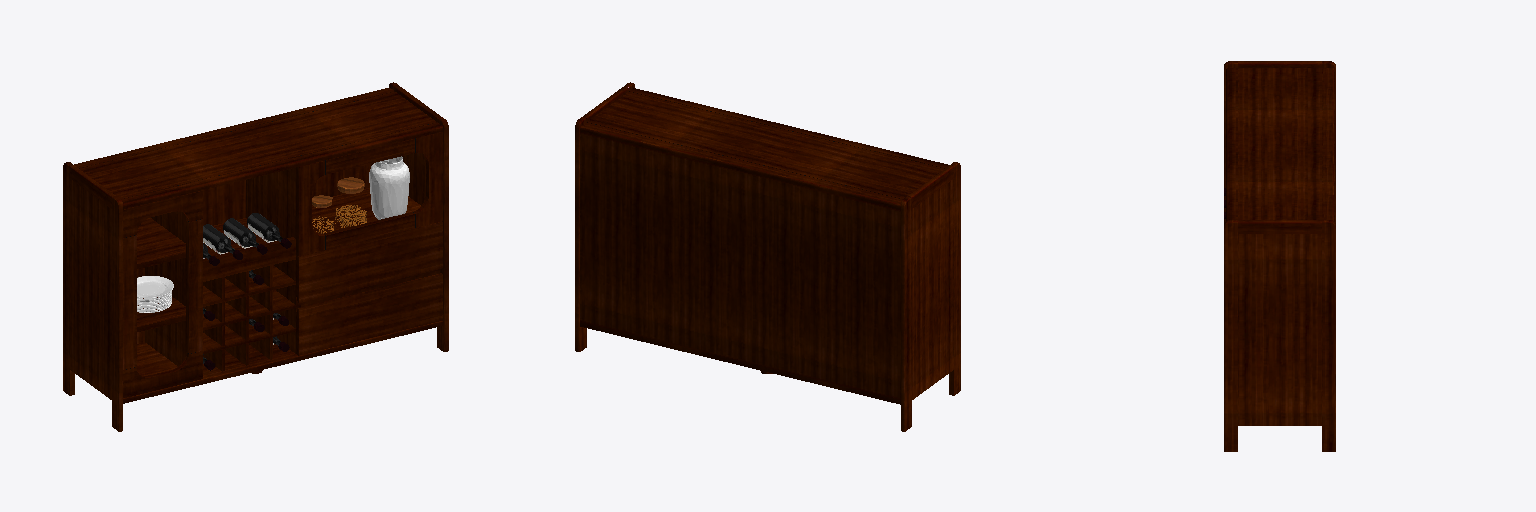
3 renders of one model, left to right at view 1: azimuth 30°, elevation 25°; view 2: azimuth 150°, elevation 25°; view 3: azimuth 270°, elevation 25°, orthographic.
Parts seen in each view (by area): view 1: solid_002, solid_001, glass_002, solid_010, solid_007, solid_008; view 2: solid_002; view 3: solid_002.
Boxes of the visible parts, x1=… form: solid_002: x1=63, y1=82, x2=448, y2=431; solid_001: x1=137, y1=156, x2=409, y2=312; glass_002: x1=203, y1=213, x2=282, y2=363; solid_010: x1=204, y1=238, x2=291, y2=370; solid_007: x1=312, y1=177, x2=364, y2=207; solid_008: x1=312, y1=205, x2=366, y2=233; solid_002: x1=575, y1=82, x2=960, y2=431; solid_002: x1=1224, y1=61, x2=1335, y2=451.
Size of the model in its own units: 1.35 by 0.9 by 0.4.
1 materials, 1 textured.